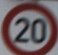20 km speed: (1, 1, 58, 54)
